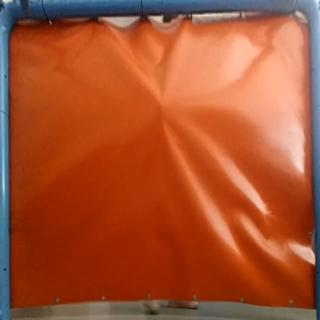Hit-hRxx: (154, 96, 176, 113)
